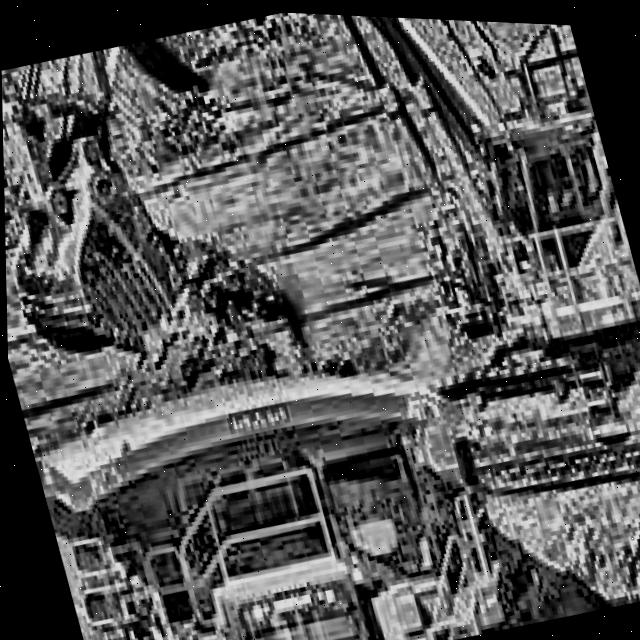dump_truck: (14, 291, 522, 640)
excavator: (0, 0, 640, 640)
